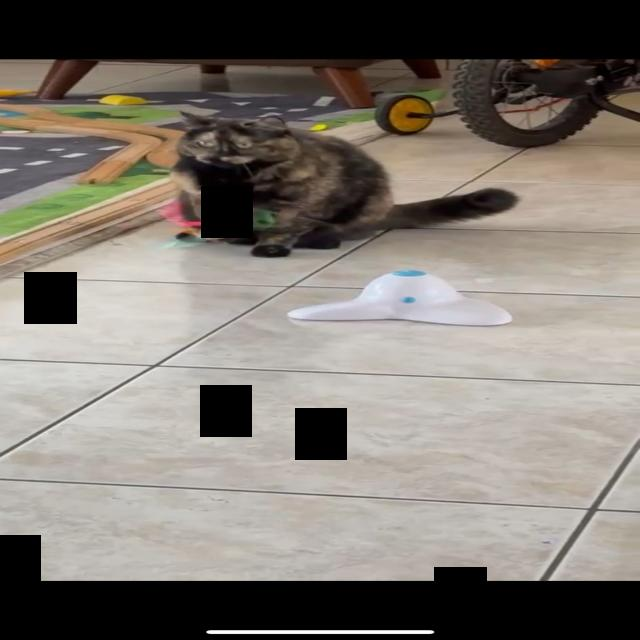authorized: (168, 110, 519, 258)
